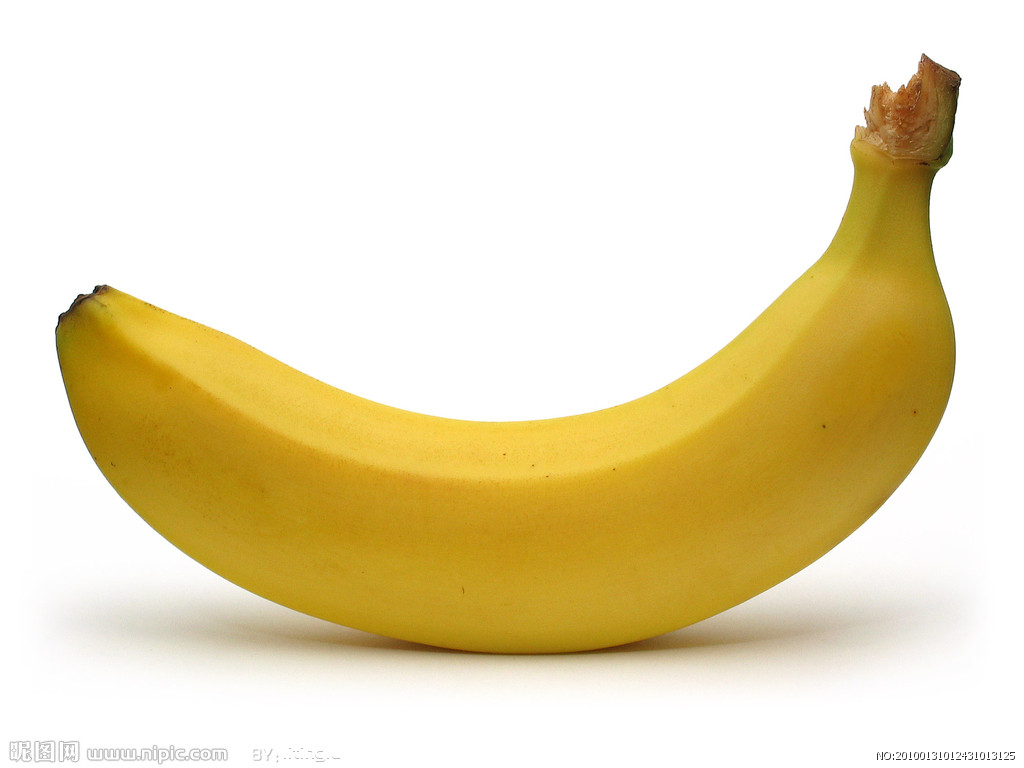banana: (55, 51, 963, 654)
